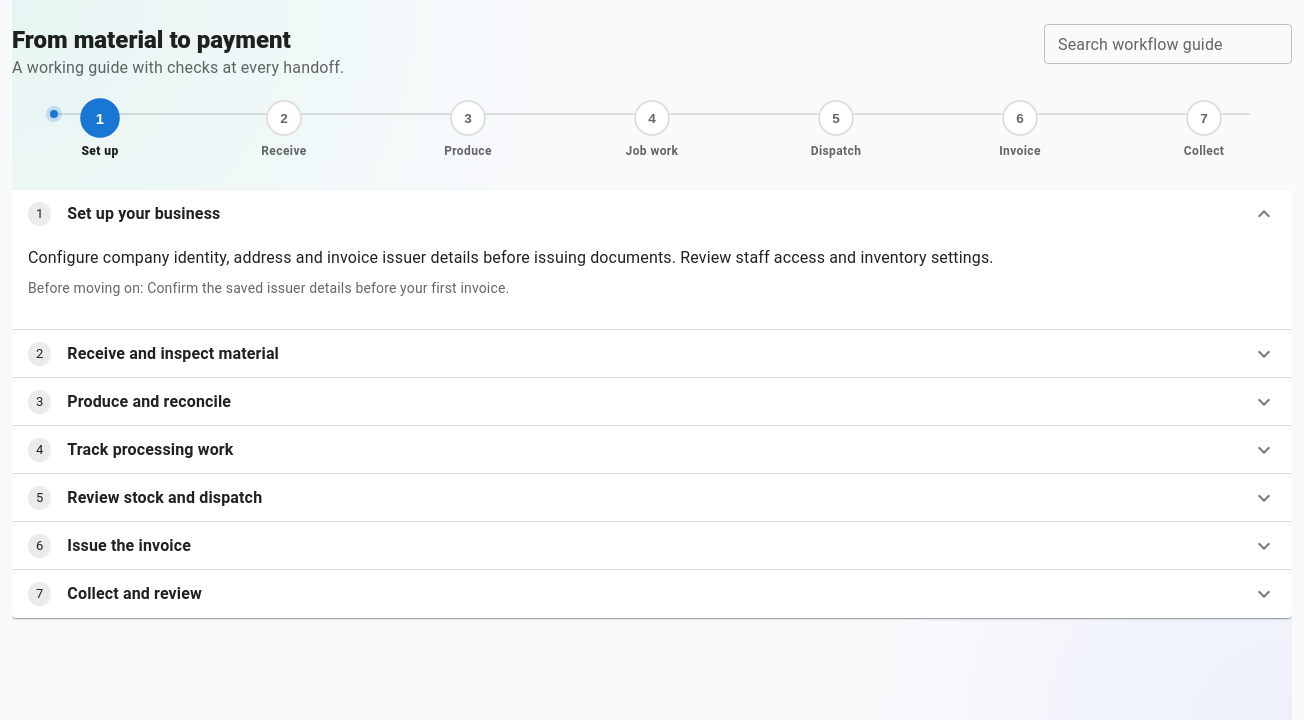
Test: shared workflow guide › opens a step from its station and marks it as current
Click the button with aria-label "Step 6: Invoice" at (1020, 131), box left=991, top=96, right=1049, bottom=166
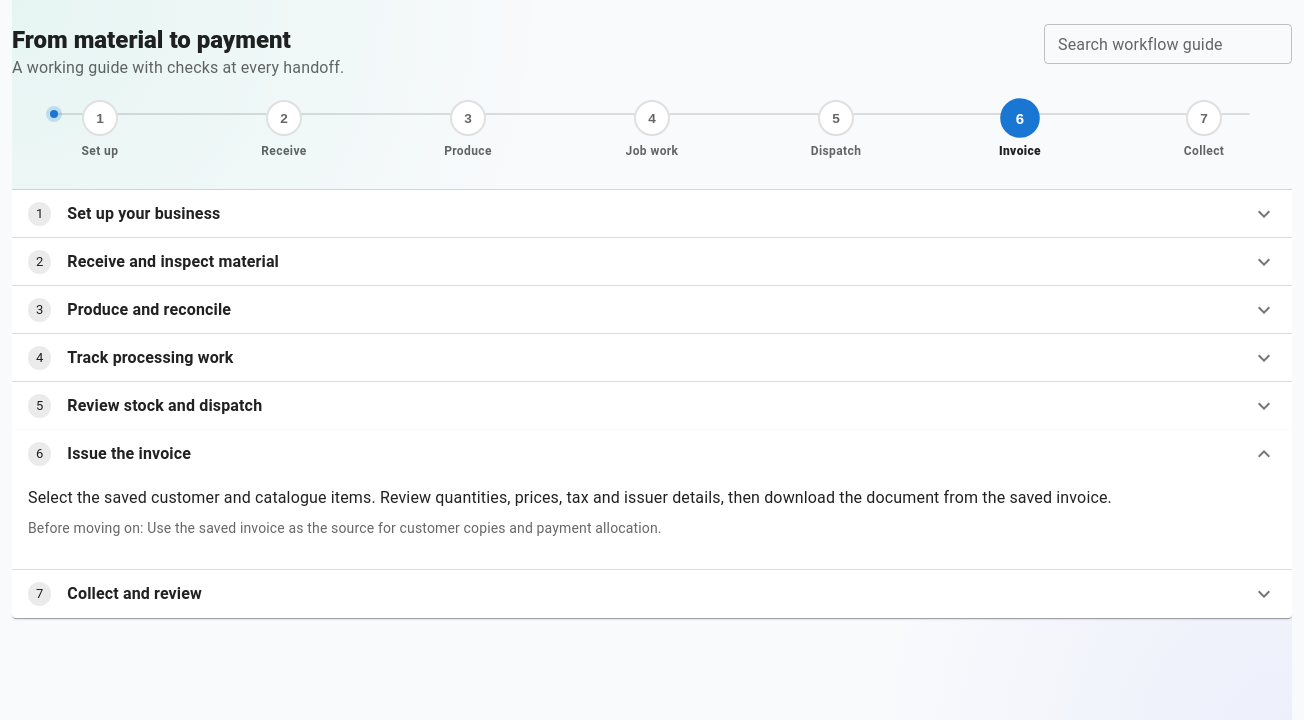
Check: the text "Select the saved customer and catalogue items" is shown, box left=28, top=488, right=1112, bottom=507
